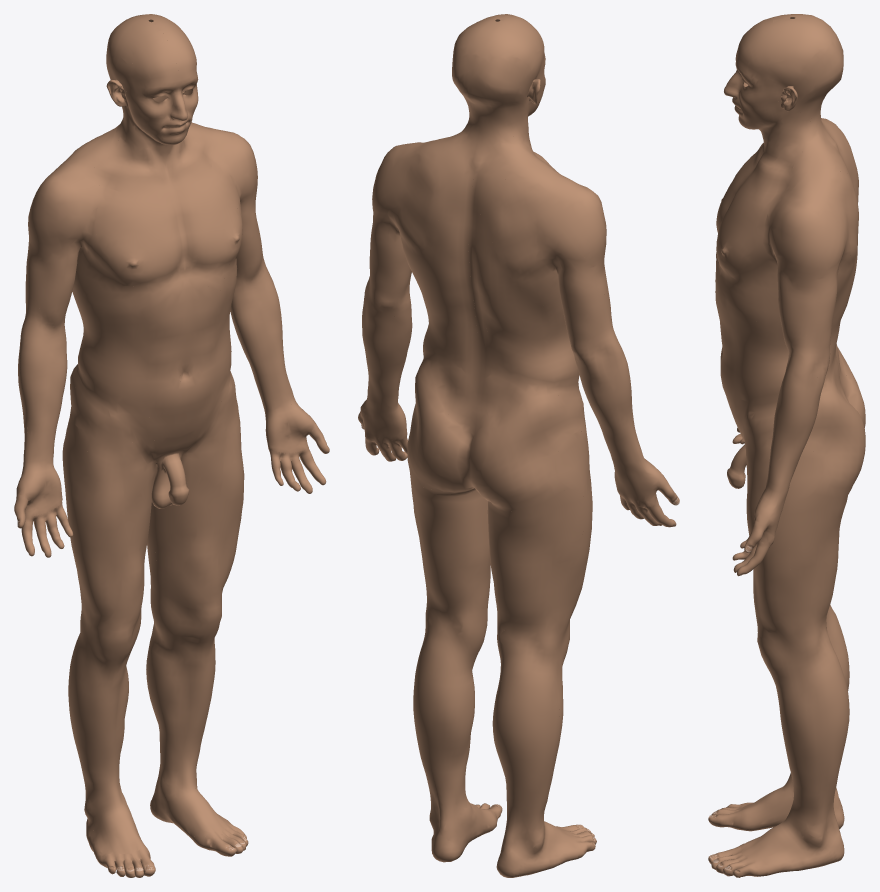
The model's file is overview-skin-regions.glb.
3 renders of one model, left to right at view 1: azimuth 30°, elevation 25°; view 2: azimuth 150°, elevation 25°; view 3: azimuth 270°, elevation 25°, orthographic.
Parts seen in each view (by area): view 1: Anterior region of thigh.r, Anterior region of thigh.l, Anterior region of leg.l, Anterior region of leg.r, Pectoral region.r, Deltoid region.r, Anterior region of forearm.l, Anterior region of forearm.r, Lateral region of thorax.r, Lateral region of abdomen.r, Pectoral region.l, Anterior region of knee.l (+48 smaller); view 2: Posterior region of thigh.r, Gluteal region.r, Posterior region of thigh.l, Posterior region of leg.r, Posterior region of leg.l, Gluteal region.l, Scapular region.r, Posterior region of arm.r, Infrascapular region.r, Scapular region.l, Posterior region of forearm.r, Vertebral region.l (+35 smaller); view 3: Anterior region of thigh.l, Posterior region of thigh.l, Deltoid region.l, Gluteal region.l, Posterior region of leg.l, Lateral region of thorax.l, Parietal region.l, Anterior region of leg.l, Lateral region of abdomen.l, Pectoral region.l, Posterior region of arm.l, Posterior region of neck.l (+49 smaller).
Boxes of the visible parts, left/top/right/bottom form: Anterior region of thigh.r: left=69, top=366, right=156, bottom=624; Anterior region of thigh.l: left=152, top=367, right=244, bottom=603; Anterior region of leg.l: left=155, top=643, right=215, bottom=770; Anterior region of leg.r: left=75, top=663, right=128, bottom=789; Pectoral region.r: left=95, top=187, right=176, bottom=286; Deltoid region.r: left=28, top=156, right=91, bottom=255; Anterior region of forearm.l: left=231, top=288, right=295, bottom=410; Anterior region of forearm.r: left=21, top=344, right=67, bottom=467; Lateral region of thorax.r: left=72, top=207, right=149, bottom=318; Lateral region of abdomen.r: left=78, top=327, right=148, bottom=407; Pectoral region.l: left=185, top=161, right=241, bottom=268; Anterior region of knee.l: left=156, top=593, right=221, bottom=653; Posterior region of thigh.r: left=487, top=486, right=584, bottom=632; Gluteal region.r: left=466, top=382, right=572, bottom=509; Posterior region of thigh.l: left=408, top=462, right=490, bottom=615; Posterior region of leg.r: left=492, top=680, right=559, bottom=822; Posterior region of leg.l: left=413, top=659, right=472, bottom=805; Gluteal region.l: left=407, top=351, right=474, bottom=492; Scapular region.r: left=490, top=181, right=563, bottom=277; Posterior region of arm.r: left=548, top=232, right=611, bottom=339; Infrascapular region.r: left=479, top=264, right=550, bottom=345; Scapular region.l: left=383, top=154, right=440, bottom=256; Posterior region of forearm.r: left=575, top=359, right=645, bottom=466; Vertebral region.l: left=451, top=169, right=477, bottom=398; Anterior region of thigh.l: left=743, top=393, right=793, bottom=635; Posterior region of thigh.l: left=789, top=494, right=847, bottom=635; Deltoid region.l: left=769, top=182, right=840, bottom=282; Gluteal region.l: left=804, top=382, right=865, bottom=497; Posterior region of leg.l: left=804, top=668, right=849, bottom=813; Lateral region of thorax.l: left=720, top=214, right=852, bottom=329; Parietal region.l: left=768, top=18, right=843, bottom=84; Anterior region of leg.l: left=776, top=686, right=812, bottom=813; Lateral region of abdomen.l: left=729, top=333, right=788, bottom=401; Pectoral region.l: left=716, top=181, right=775, bottom=276; Posterior region of arm.l: left=805, top=233, right=845, bottom=350; Posterior region of neck.l: left=791, top=96, right=841, bottom=183.
Size of the model in its own units: 0.68 by 1.71 by 0.294.
